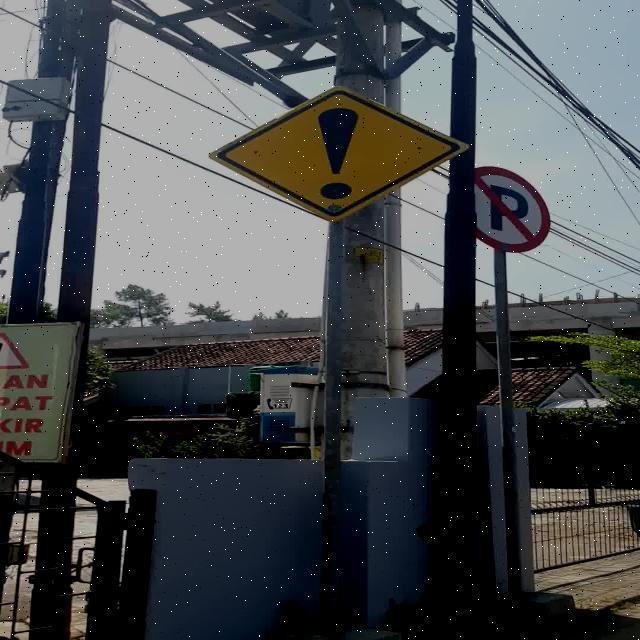Hati-Hati: (208, 86, 470, 221)
